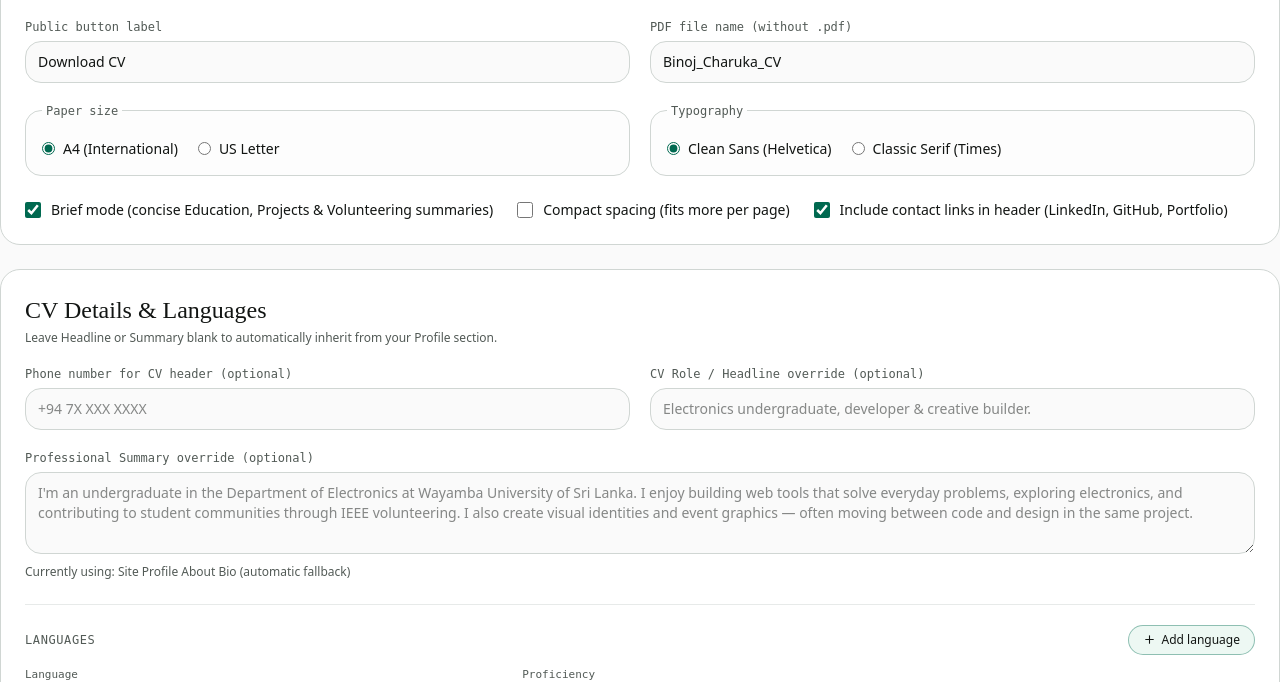
Test: AdminCvSettingsPanel & Live Preview UI › updates live CV preview immediately when CV settings and overrides change
(page scrolled)
Expected: the text "CERTIFICATIONS" is not shown
Type "+94 77 555 0199" into the field labelled "Phone number for CV header (optional)" at (328, 408), box 25,388 -> 630,430
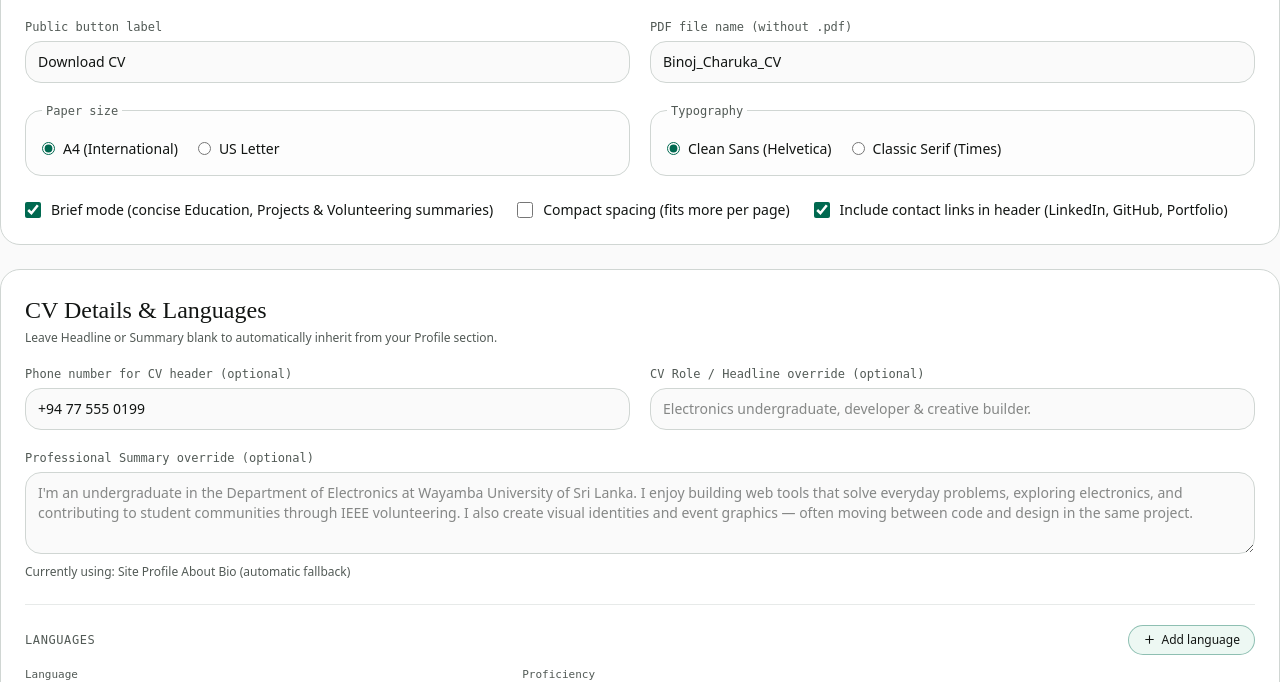
Replace the text in the text box labelled "Professional Summary override (optional)" with "Focused electronics & web developer ready for software roles." at (640, 512), box 25,472 -> 1255,554
(page scrolled)
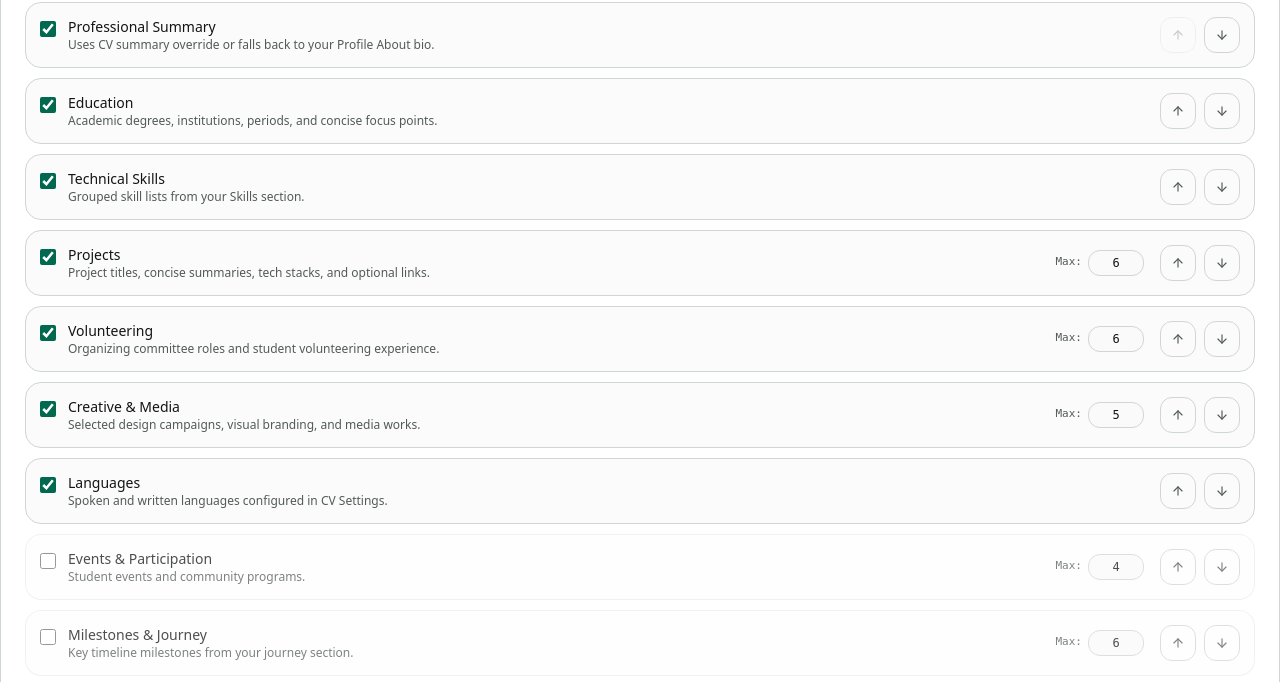
Click the checkbox labelled "Creative & Media" at (48, 408), box 40,400 -> 56,416
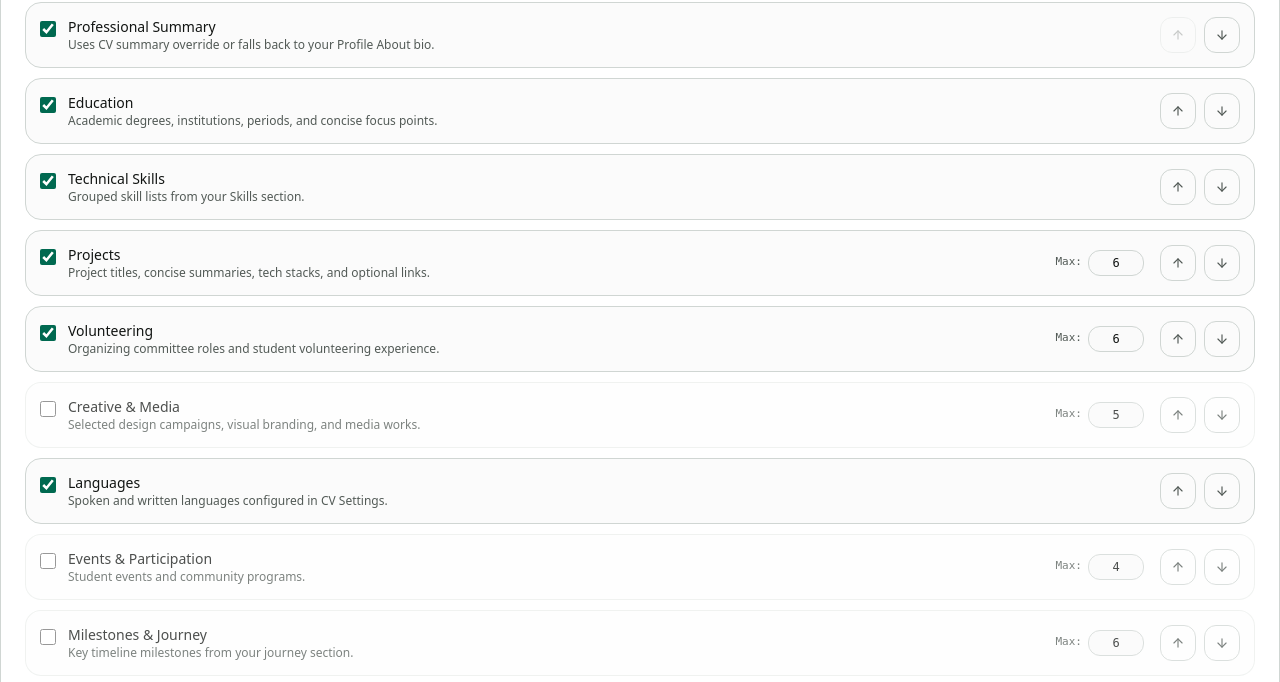
Click the button named "Move Projects up" at (1178, 262), box 1160,244 -> 1196,280
(page scrolled)
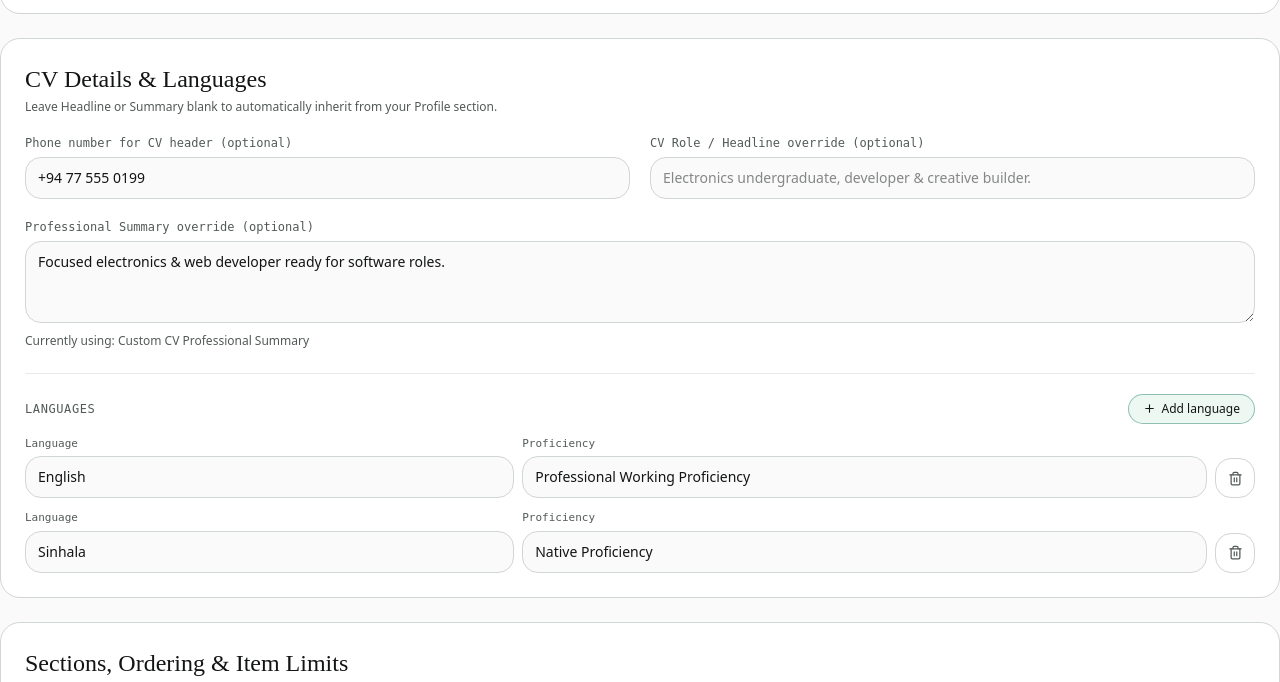
Click the button "Add language" at (1191, 408), box 1128,394 -> 1255,424
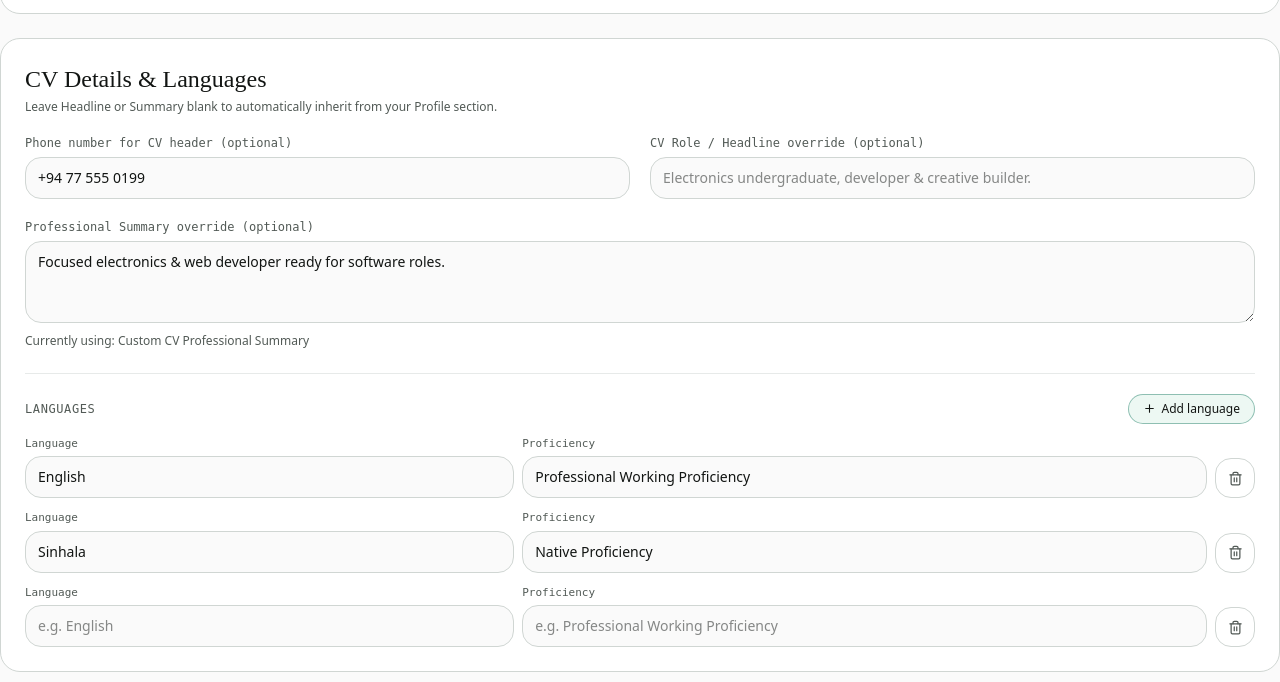
Now the button named "Remove language 3" is shown, box 1215,607 -> 1255,647
